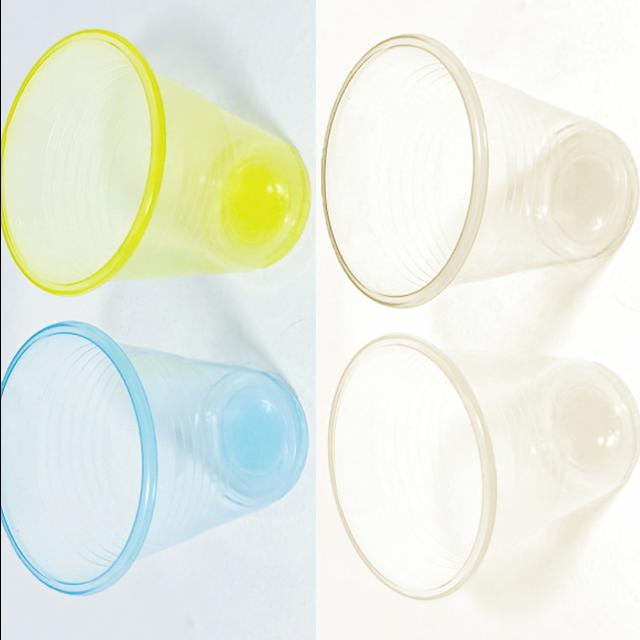plastik: (323, 36, 637, 307), (0, 323, 307, 595), (0, 30, 308, 295), (328, 336, 639, 597)
